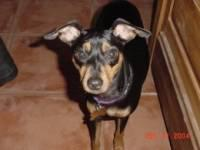dog-miniature_pinscher: (40, 16, 150, 93)
